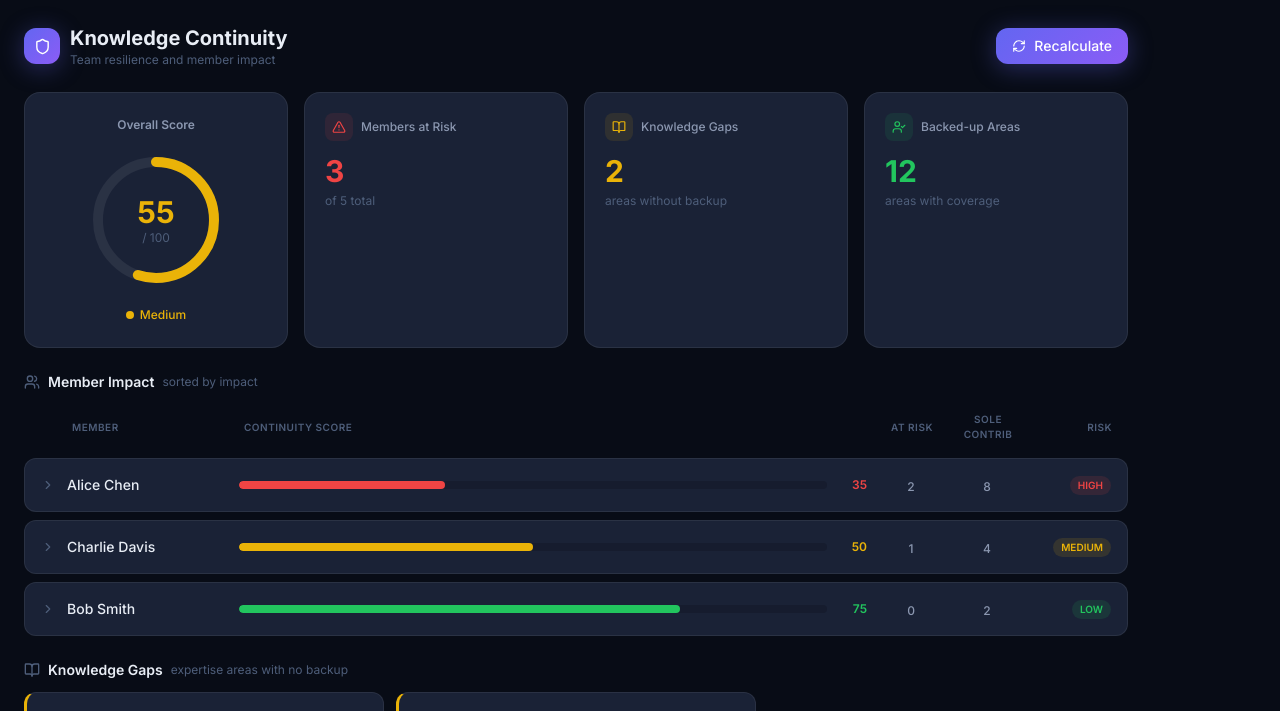
Test: ContinuityPage › expands member row to show details
Click the first "Alice Chen" which is the member row button
Click the text "Alice Chen".
click(103, 484)  # box [67,476,139,493]
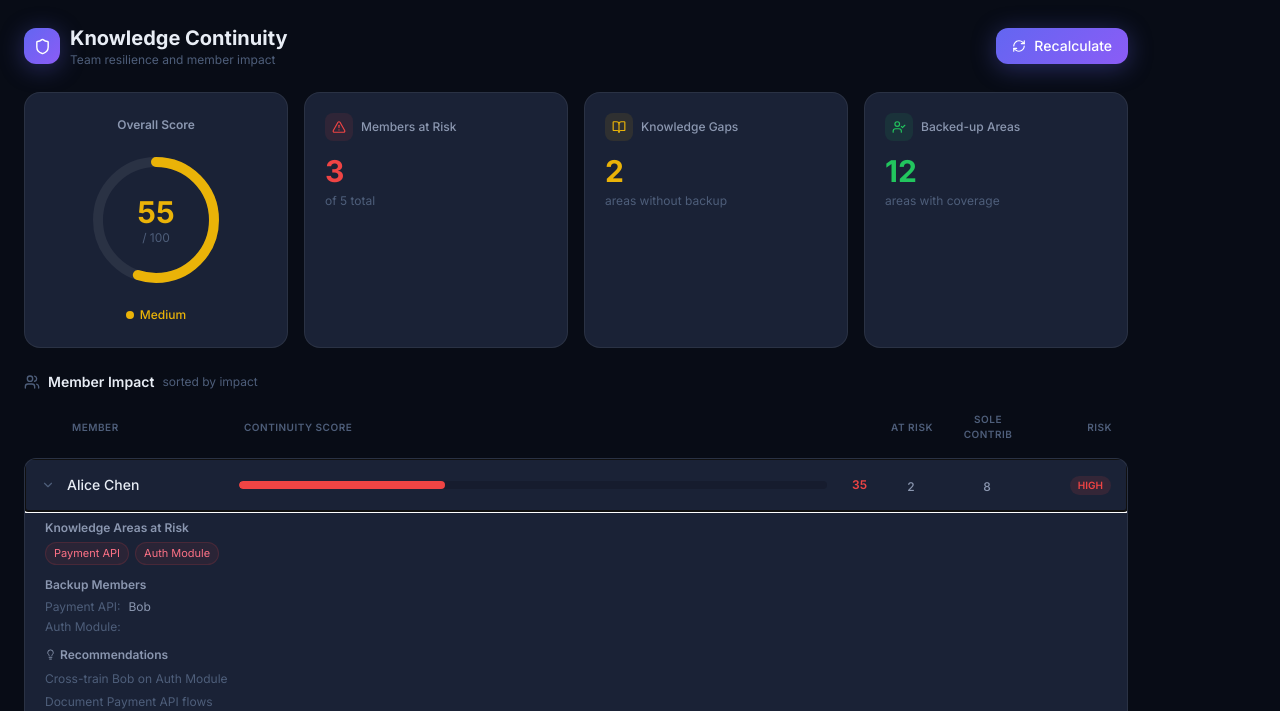
Expected: the text "Knowledge Areas at Risk" is shown, [45,520,189,535]
Expected: the text "Payment API" is shown, [45,542,129,564]
Expected: the text "Auth Module" is shown, [135,542,219,564]
